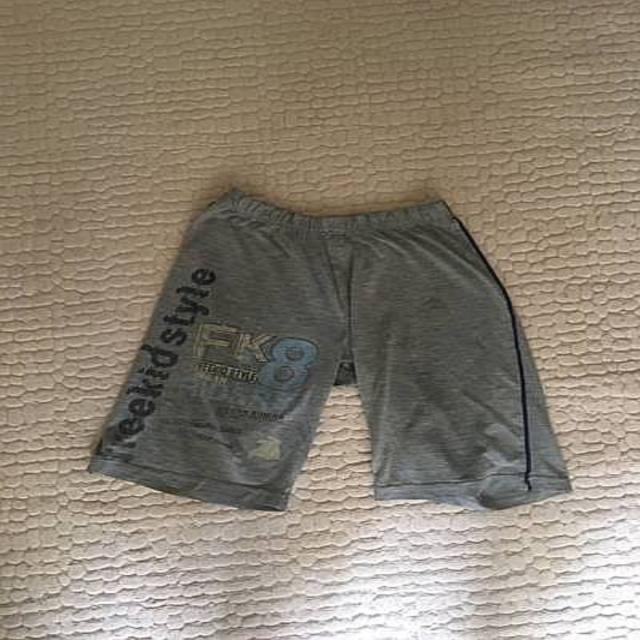SHORT: (73, 185, 606, 515)
